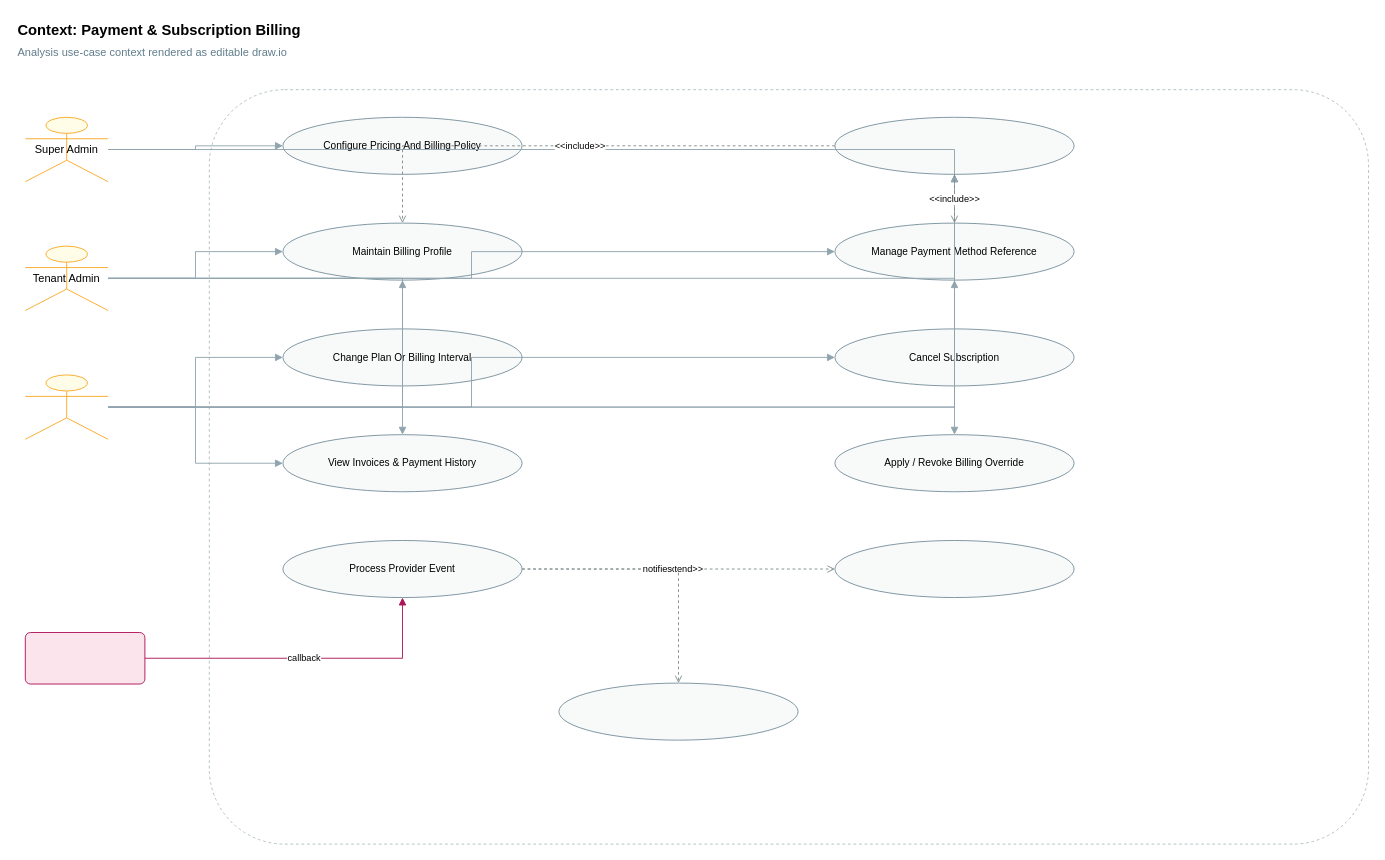
The diagram is 1385 pixels wide and 860 high, and some of its shapes have lost their labels. The shapes that lost their labels are listed below. From the top down, each one's centre as x and y in pixels, then its label:
the point at 954,145: Start Tenant Subscription
the point at 66,406: Billing Admin
the point at 954,569: Apply Dunning Or Access Restriction
the point at 84,658: Payment Provider
the point at 678,711: Notify Billing Contact
